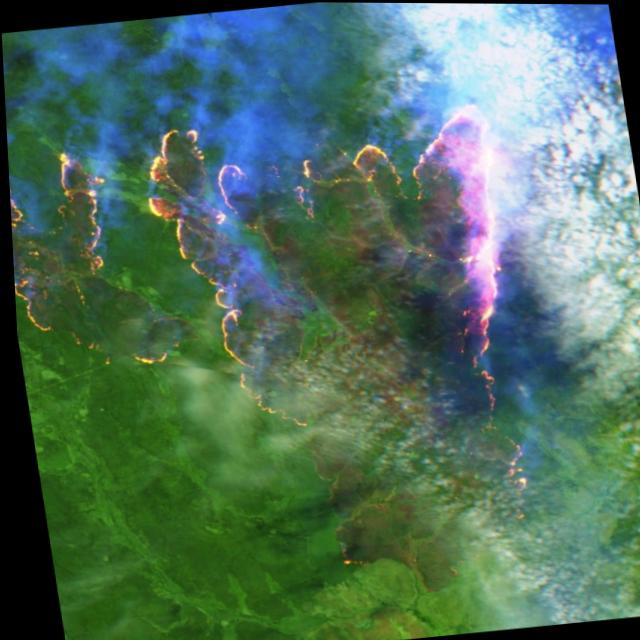fire: (133, 87, 552, 468), (6, 139, 138, 336)
